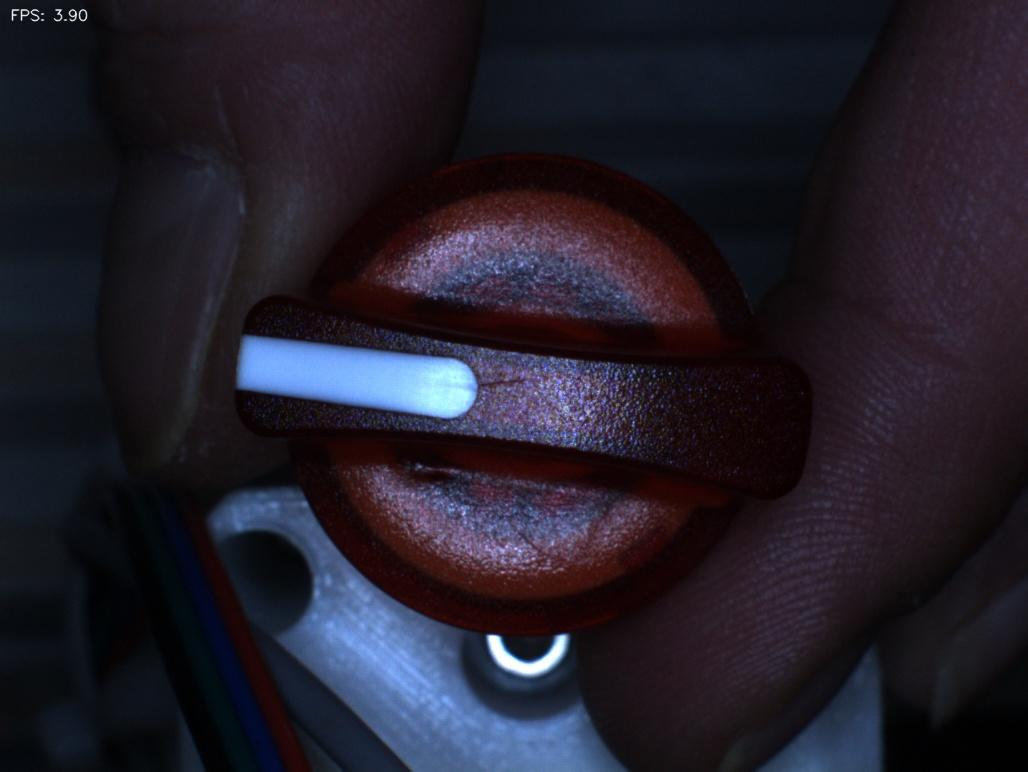Choc: (371, 433, 474, 513)
